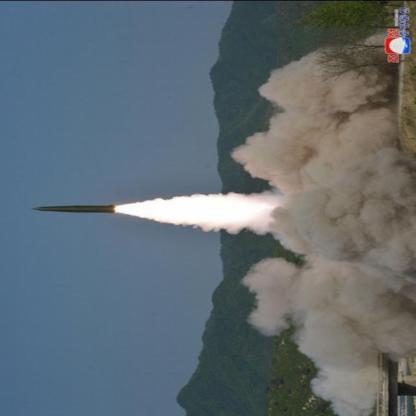MIL_TBM: (26, 202, 118, 215)
